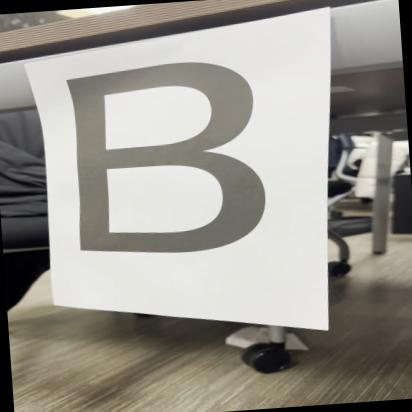seat: (44, 50, 292, 276)
